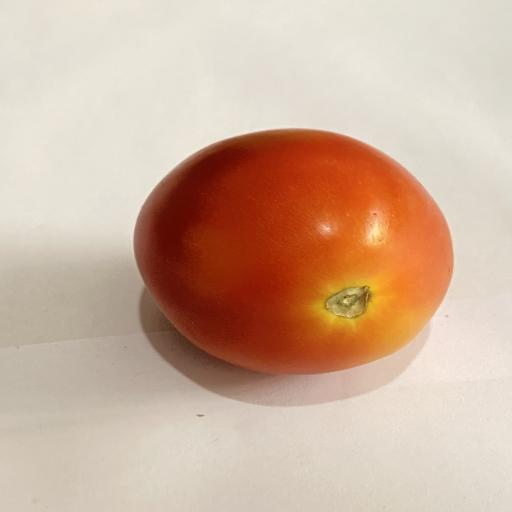ripe: (134, 129, 453, 374)
